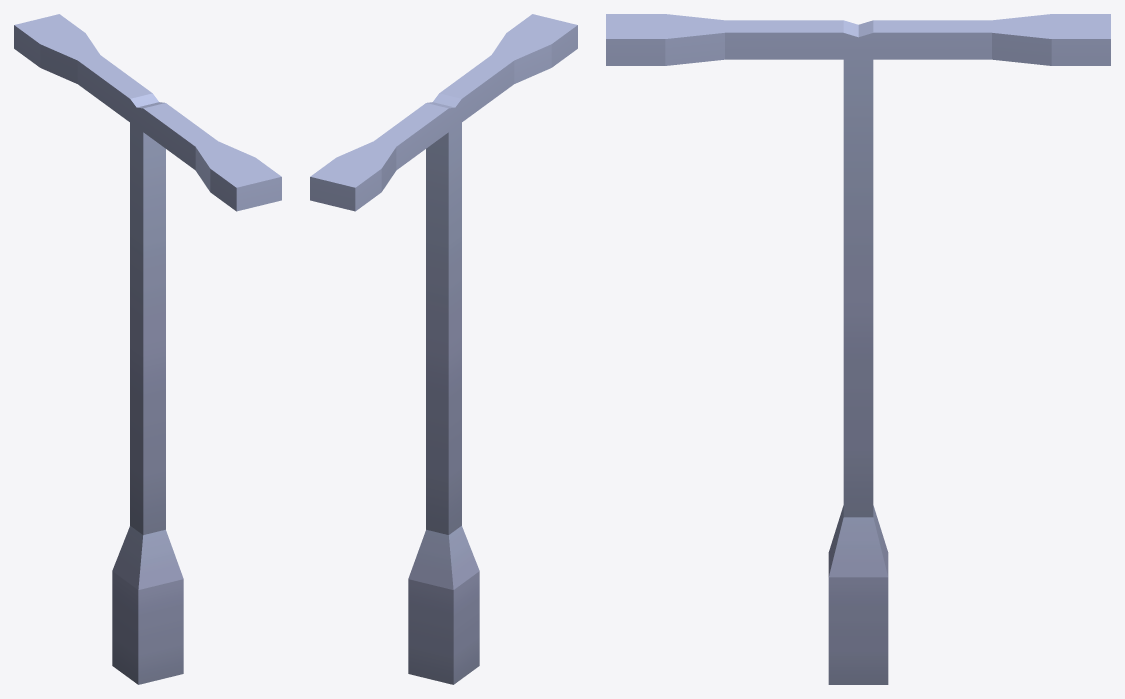
Rendered from roads__light-square-double.glb.
The picture shows the model from 3 angles, left to right: view 1: azimuth 30°, elevation 25°; view 2: azimuth 150°, elevation 25°; view 3: azimuth 270°, elevation 25°; orthographic projection. The views are drawn at different scales.
Parts seen in each view (by area): view 1: light-square-double; view 2: light-square-double; view 3: light-square-double.
Boxes of the visible parts, x1,y1,x2,y2 form: light-square-double: (14, 14, 281, 684); light-square-double: (310, 14, 577, 684); light-square-double: (606, 14, 1110, 684).
Bounding box in the file's own units: 0.05 × 0.6 × 0.425.
1 material, 1 textured.
